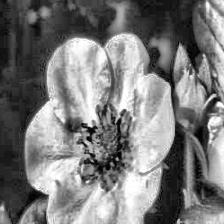Blossom Blight: (72, 100, 136, 192)
